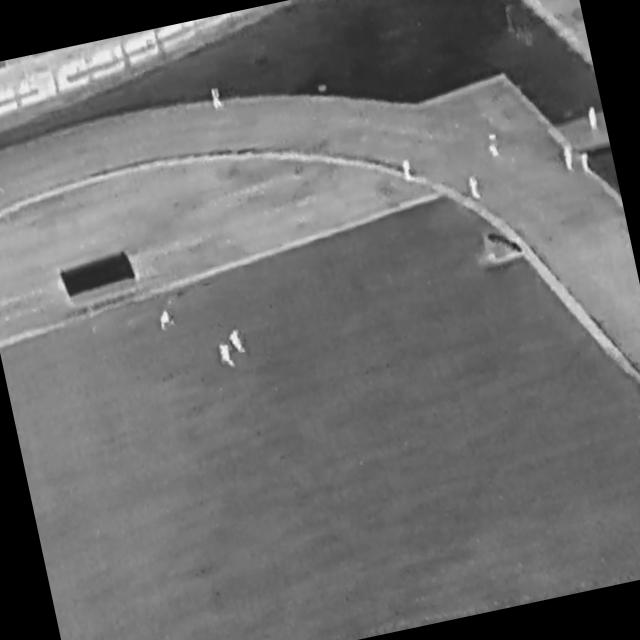person: (226, 327, 250, 358), (219, 342, 237, 370), (485, 132, 502, 160), (561, 144, 576, 173), (468, 175, 484, 202), (211, 87, 225, 111), (157, 310, 173, 331), (588, 107, 601, 132), (402, 160, 414, 181), (580, 152, 592, 172)
